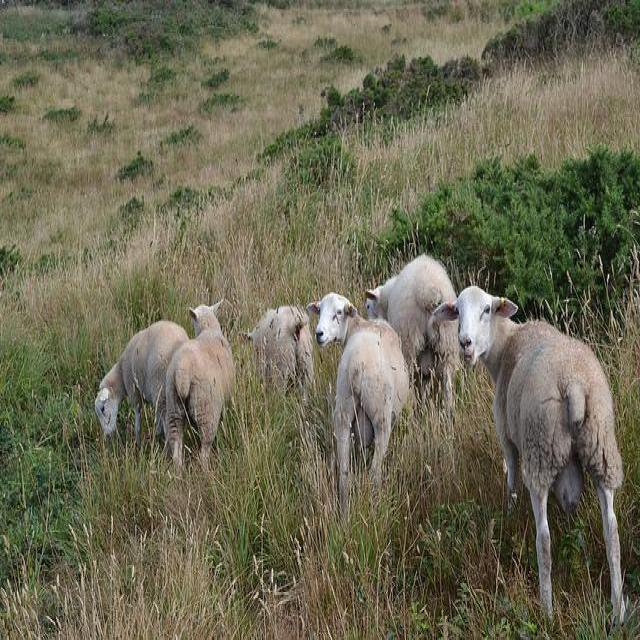Sheep: (428, 282, 628, 623), (308, 286, 415, 514), (365, 253, 459, 411), (165, 292, 239, 477), (95, 320, 189, 452), (237, 303, 314, 402)
